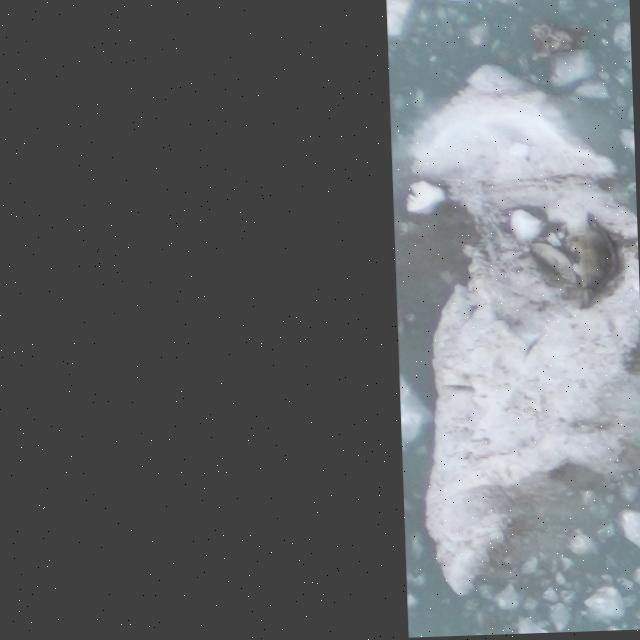seal: (571, 203, 625, 314), (524, 236, 589, 290)
